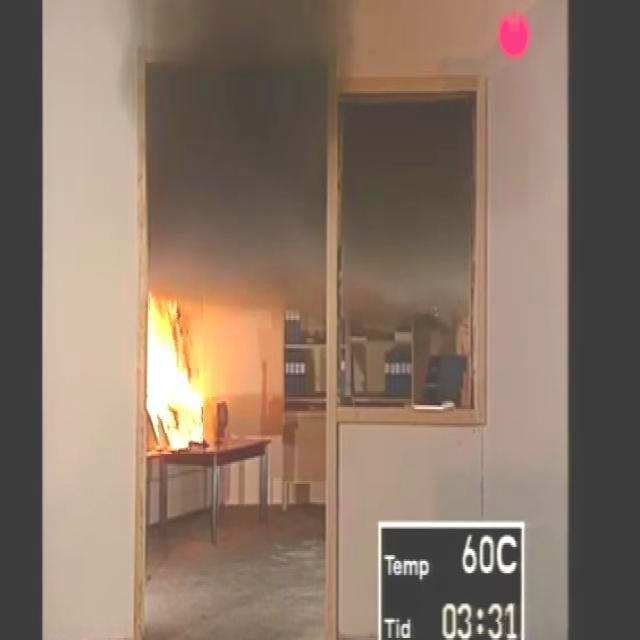fire: (147, 296, 229, 462)
